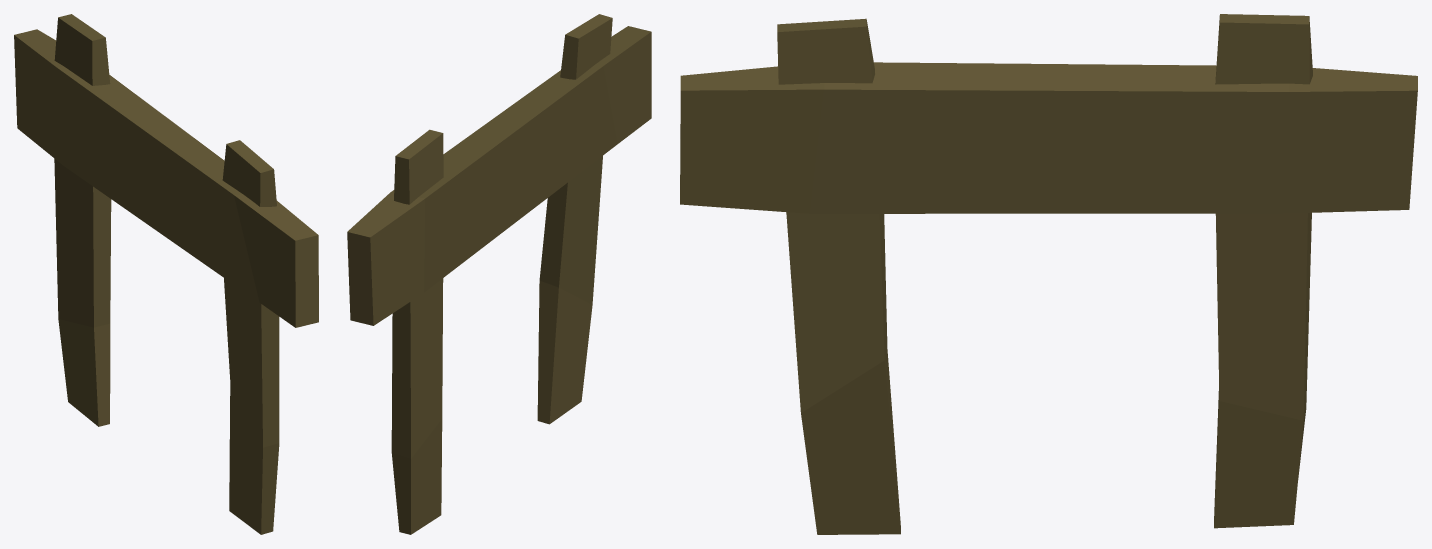
File: Fence.fbx
3 renders of one model, left to right at view 1: azimuth 30°, elevation 25°; view 2: azimuth 150°, elevation 25°; view 3: azimuth 270°, elevation 25°, orthographic. The views are drawn at different scales.
Parts seen in each view (by area): view 1: Cube, Cube.001, Cube.002; view 2: Cube, Cube.002, Cube.001; view 3: Cube, Cube.002, Cube.001.
Part boxes in pixels (left/top/right/bottom): Cube: left=14, top=29, right=318, bottom=327; Cube.001: left=54, top=14, right=111, bottom=426; Cube.002: left=222, top=140, right=279, bottom=534; Cube: left=347, top=26, right=651, bottom=325; Cube.002: left=537, top=14, right=612, bottom=424; Cube.001: left=391, top=129, right=443, bottom=534; Cube: left=680, top=62, right=1417, bottom=213; Cube.002: left=777, top=18, right=900, bottom=534; Cube.001: left=1214, top=14, right=1312, bottom=528.
Bounding box in the file's own units: 87 × 783 × 1037.
